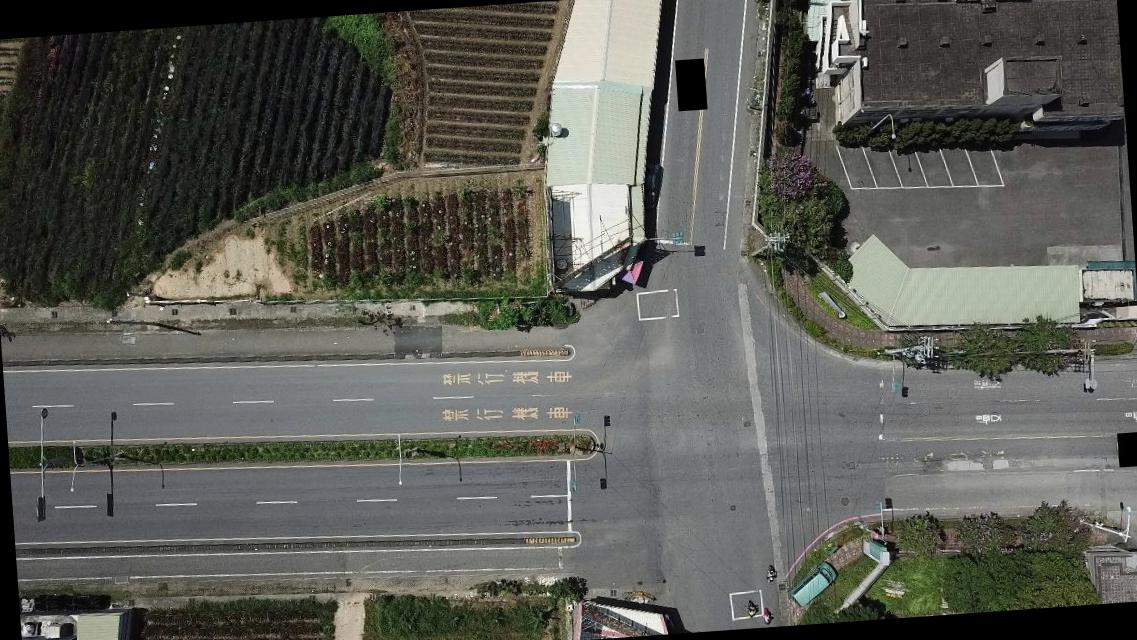vehicle: (788, 560, 838, 607)
